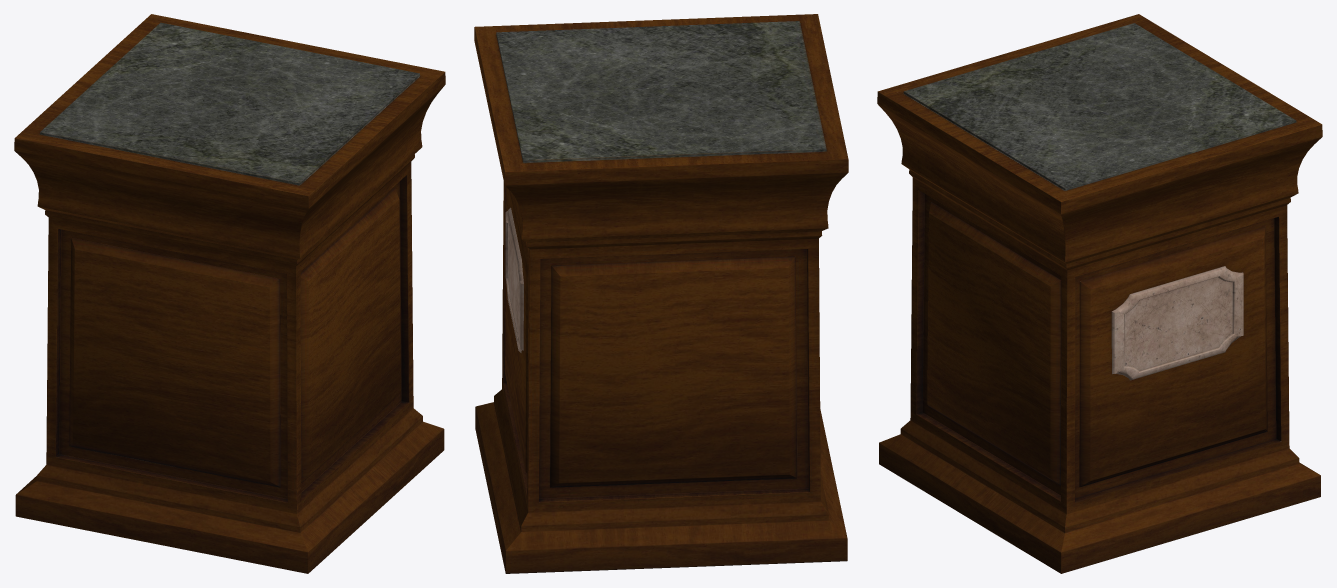
The model's file is cu_Pylone_Hyper.obj.
The picture shows the model from 3 angles, left to right: view 1: azimuth 30°, elevation 25°; view 2: azimuth 150°, elevation 25°; view 3: azimuth 270°, elevation 25°; orthographic projection. The views are drawn at different scales.
Parts seen in each view (by area): view 1: cu_Pylone_Hyper; view 2: cu_Pylone_Hyper; view 3: cu_Pylone_Hyper.
Part boxes in pixels (x1,y1,x2,y2): cu_Pylone_Hyper: [14, 14, 445, 573]; cu_Pylone_Hyper: [474, 14, 848, 573]; cu_Pylone_Hyper: [877, 14, 1322, 573].
Bounding box in the file's own units: 2.01 × 1.87 × 2.01.
